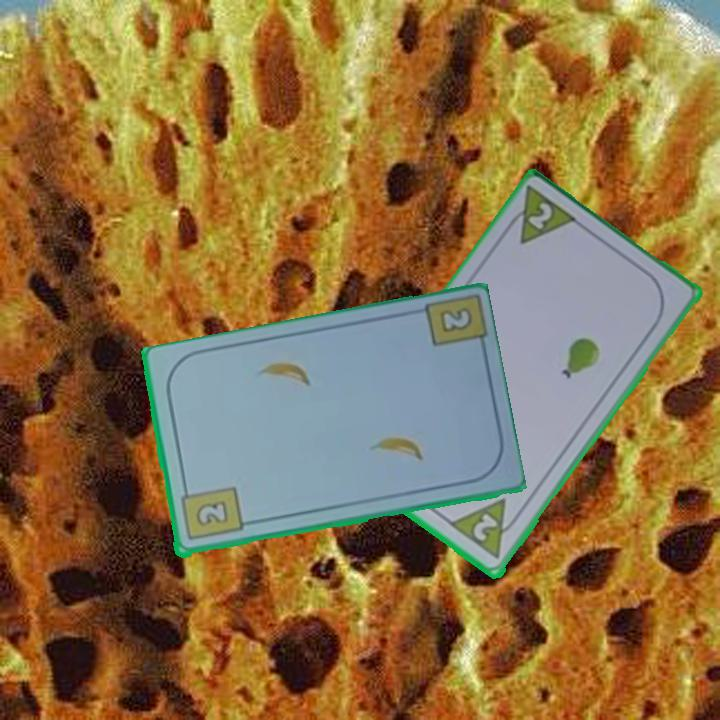2b: (176, 482, 245, 544), (435, 303, 476, 336)
2p: (499, 183, 582, 249), (469, 510, 501, 545)
